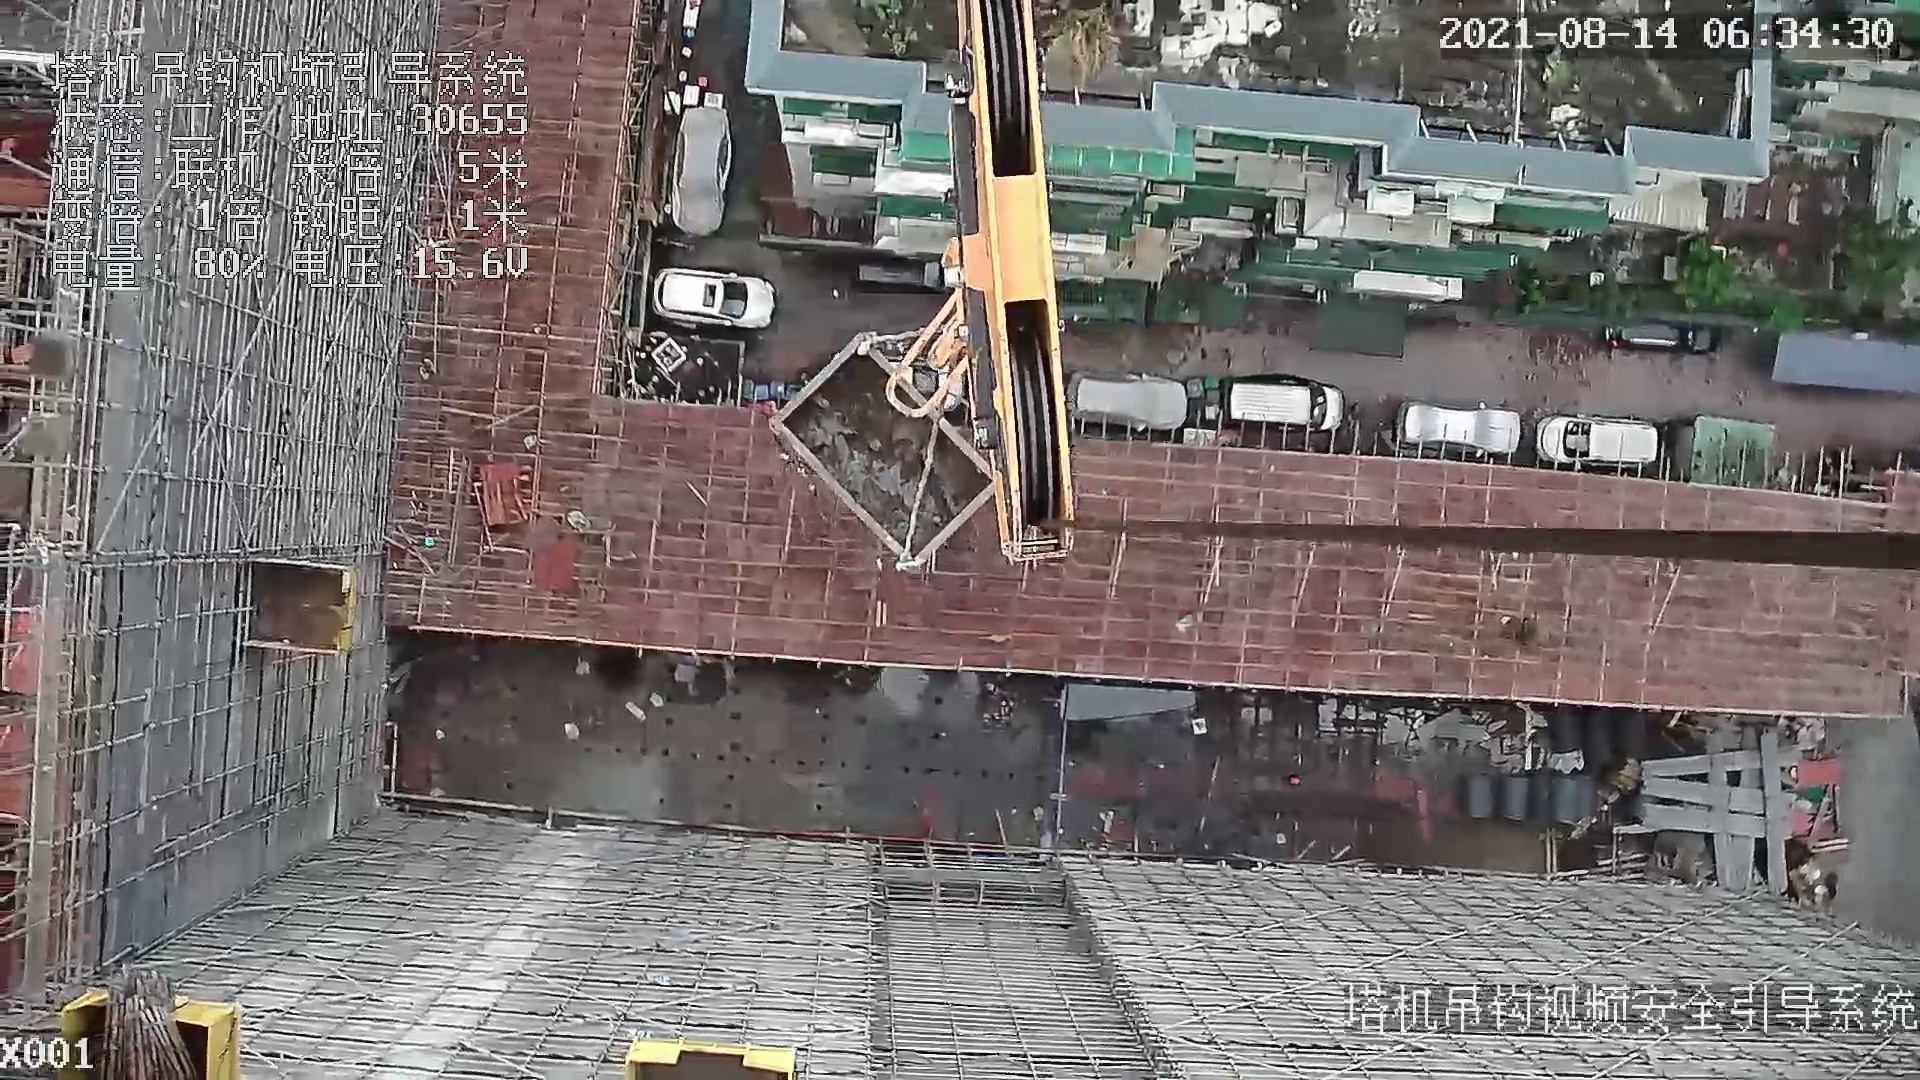hook: (884, 1, 1076, 562)
hopper: (774, 327, 992, 582)
scaffold: (90, 960, 200, 1080)
